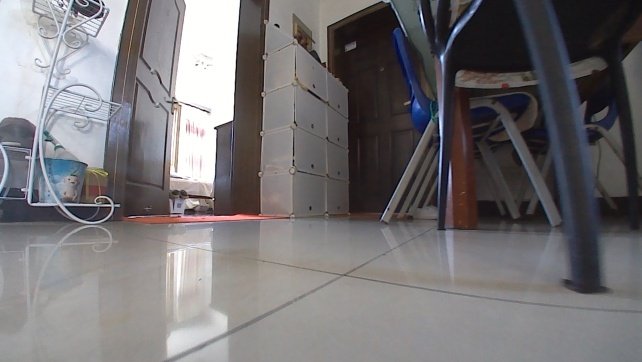blanket: (121, 210, 286, 227)
dining_table1: (372, 0, 641, 291)
door_anno: (331, 5, 424, 215), (106, 0, 188, 216)
